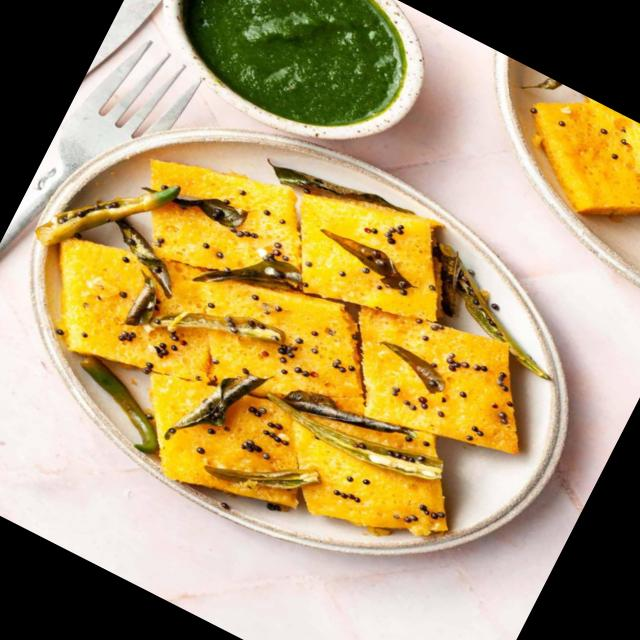dhokla: (0, 79, 589, 614), (455, 67, 640, 321)
